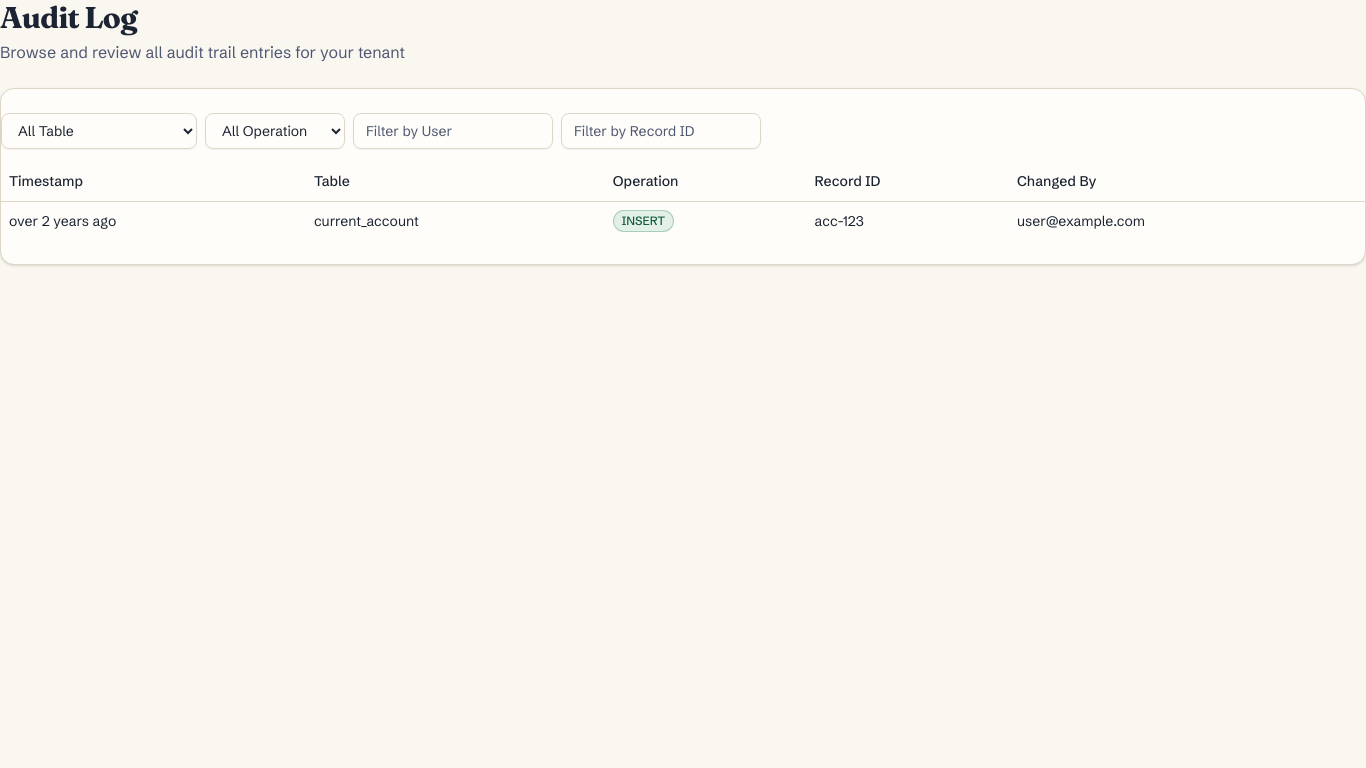
Test: AuditLogPage › row click and detail panel › closes detail panel when backdrop is clicked
The width and height of the screenshot is (1366, 768).
Expected: the text "acc-123" is shown, [807,201,1009,240]
Click the text "acc-123". click: (63, 220)
box: [1,201,1365,240]
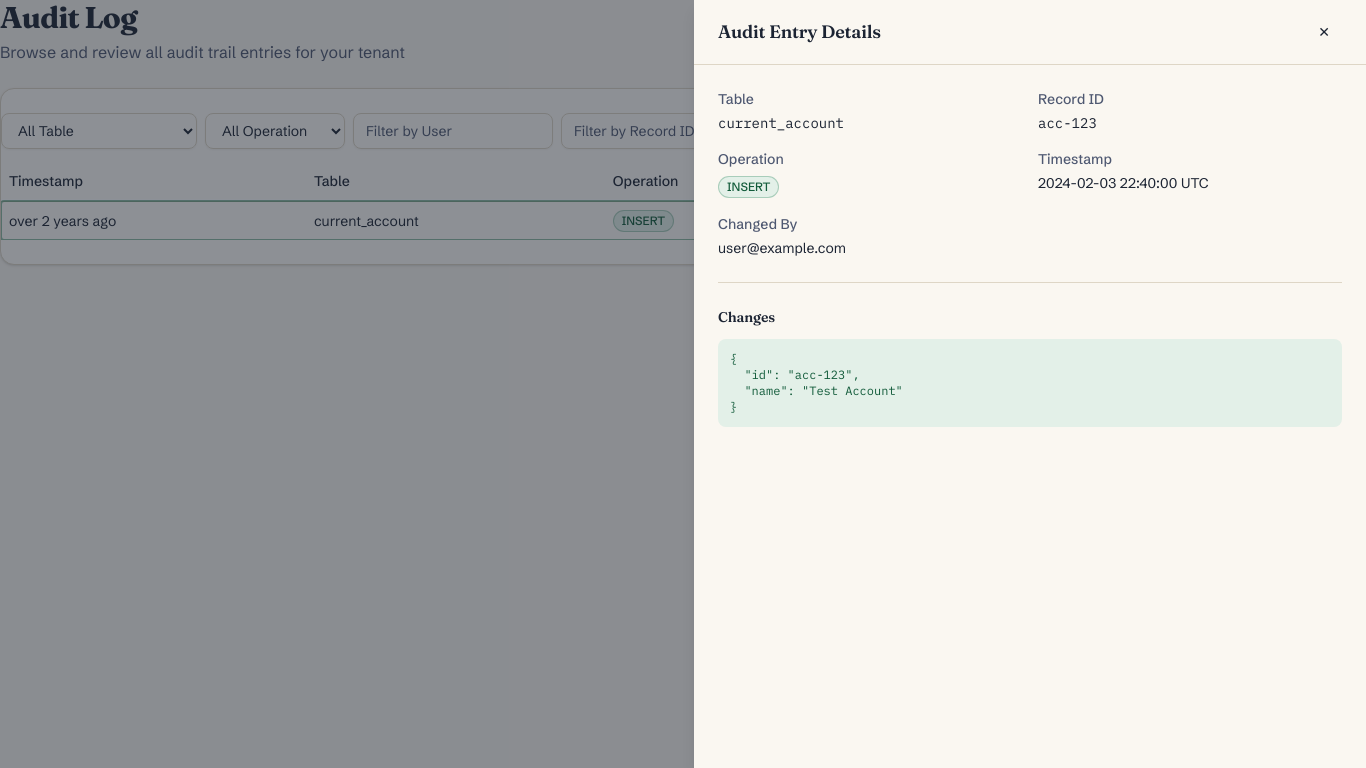
Click the element with test id "detail-panel-backdrop". click: (683, 384)
box: [0,0,1365,767]
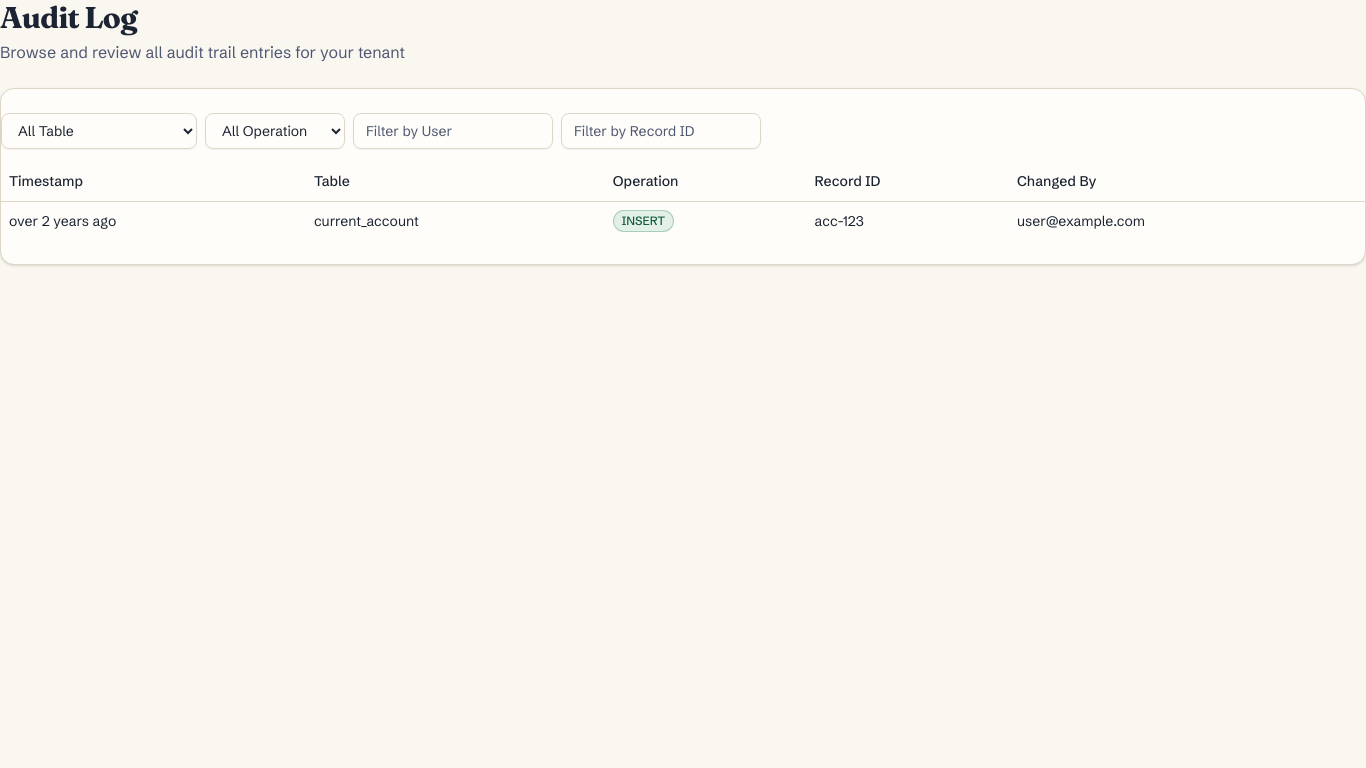
Now the heading "Audit Entry Details" is gone
